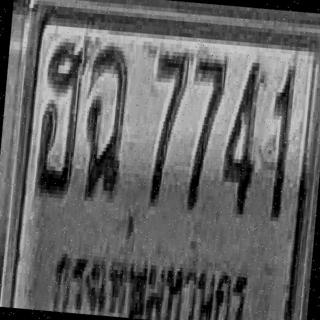A09: (79, 41, 130, 199)
A44: (34, 35, 90, 198)
N01: (264, 62, 295, 220)
N04: (219, 57, 264, 215)
N07: (182, 54, 228, 212), (146, 46, 189, 205)
P04: (44, 225, 256, 320)
